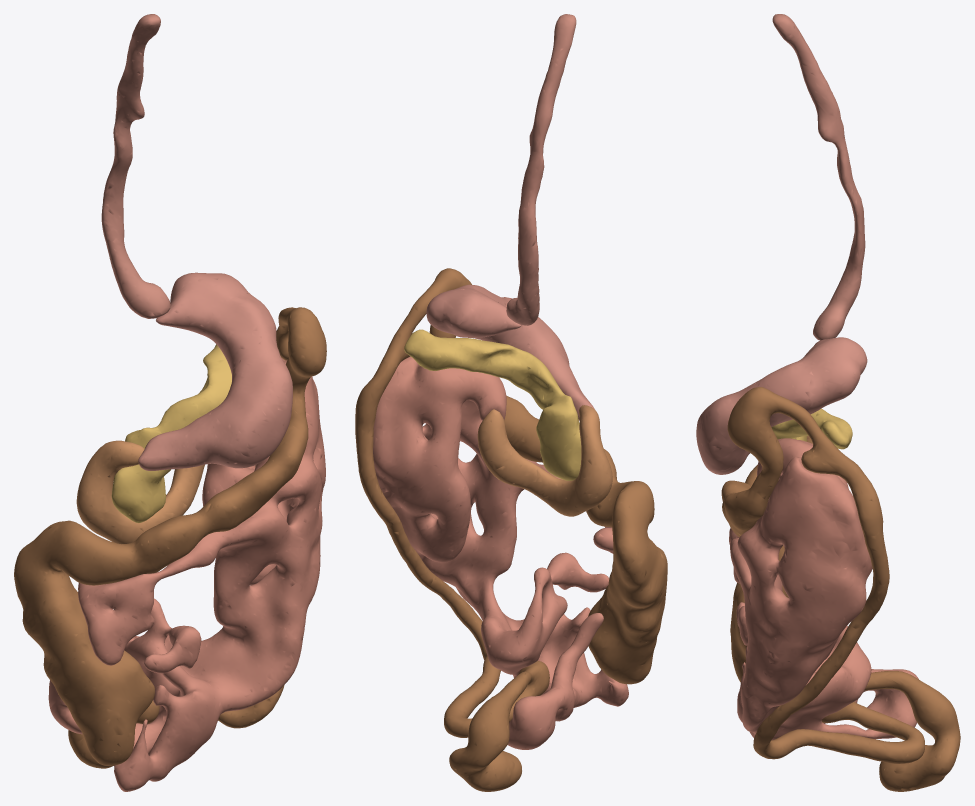
File: s1045_digestive_tract.glb
3 views of the same model, side by side, from view 1: azimuth 30°, elevation 25°; view 2: azimuth 150°, elevation 25°; view 3: azimuth 270°, elevation 25° (orthographic). The views are drawn at different scales.
Parts seen in each view (by area): view 1: small_bowel, colon, stomach, esophagus, duodenum, pancreas; view 2: small_bowel, colon, pancreas, duodenum, stomach, esophagus; view 3: small_bowel, colon, stomach, esophagus, pancreas.
Boxes of the visible parts, box(x1,y1,x2,y2) form: small_bowel: box(48, 358, 325, 791); colon: box(14, 307, 326, 768); stomach: box(138, 272, 292, 470); esophagus: box(101, 14, 170, 318); duodenum: box(76, 440, 204, 544); pancreas: box(111, 344, 231, 523); small_bowel: box(373, 356, 628, 749); colon: box(355, 268, 667, 791); pancreas: box(404, 329, 581, 480); duodenum: box(477, 405, 612, 516); stomach: box(426, 284, 594, 420); esophagus: box(506, 14, 576, 325); small_bowel: box(729, 438, 918, 740); colon: box(721, 387, 960, 791); stomach: box(696, 337, 867, 474); esophagus: box(772, 14, 865, 340); pancreas: box(771, 408, 852, 449).
Bounding box in the file's own units: 0.2325 × 0.5908 × 0.1842.
